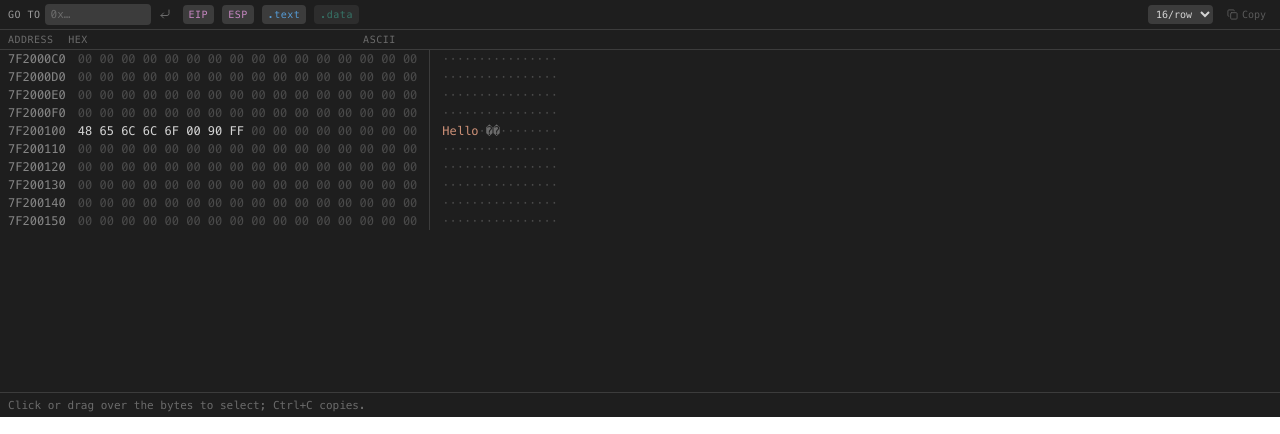
Test: clique seleciona um byte e o rodape diz qual
Press the mouse on the text "48" at [85, 130], box [78, 122, 92, 140]
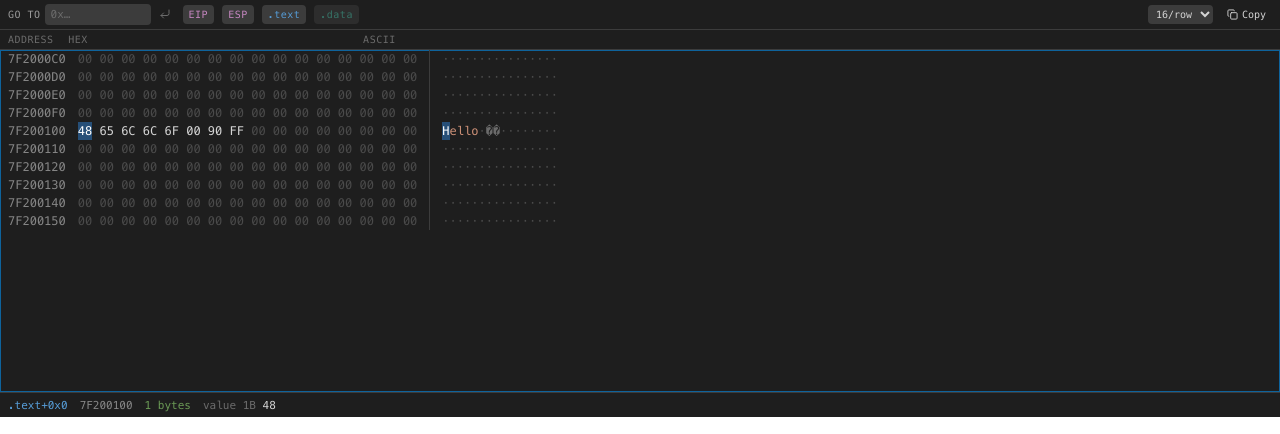
Now the footer shows "7F200100", box [80, 398, 133, 412]
Now the footer shows "1 bytes", box [0, 392, 1279, 417]
